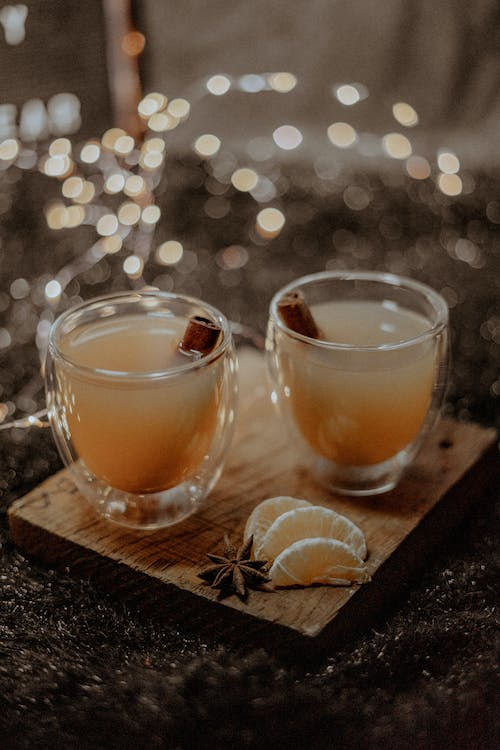alcohol: (43, 290, 241, 532), (262, 269, 451, 496)
